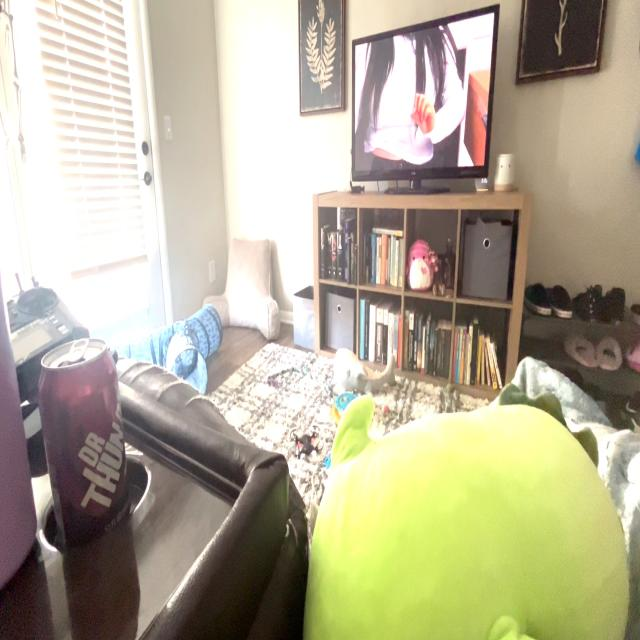drone: (281, 405, 328, 474)
